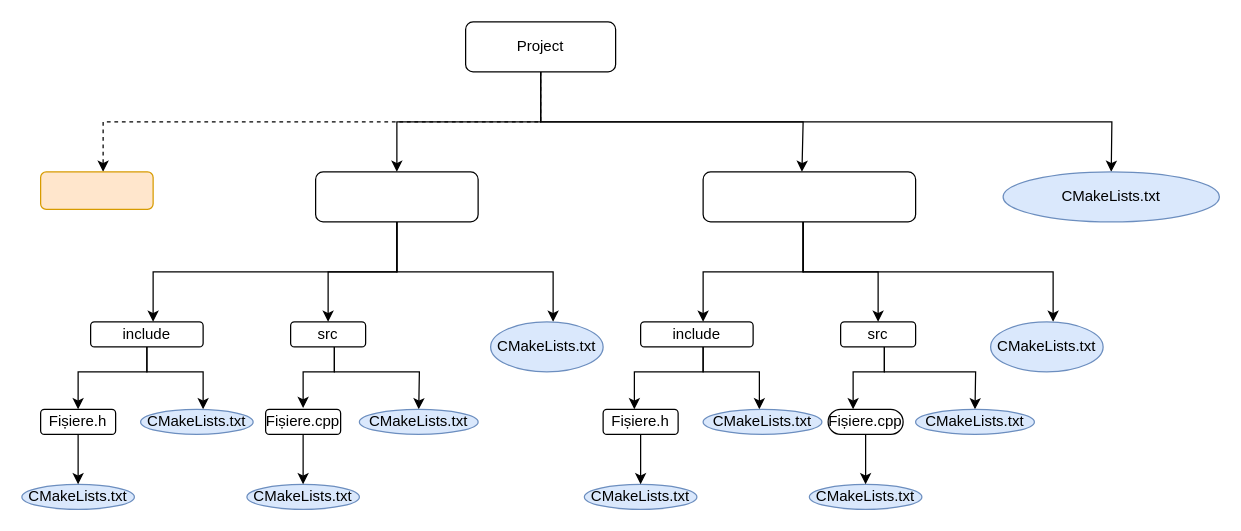
This 1241x531 diagram has some shape labels left out. The box of each missing label's shape, as (x1, y1, x2, y2) in pixels:
Algorithms: (314, 171, 478, 222)
BrainTumorSegmentation: (702, 171, 916, 222)
build: (39, 171, 153, 209)
